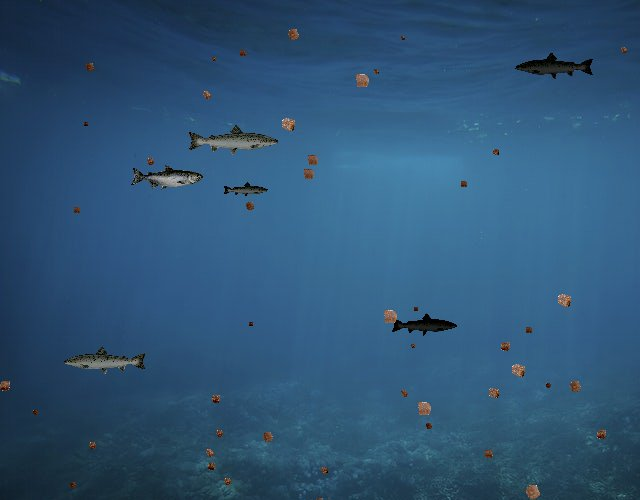Fish: (187, 124, 281, 157), (62, 345, 148, 376), (515, 51, 596, 81), (131, 164, 204, 190), (390, 312, 458, 337), (222, 182, 269, 199)
Pellet: (84, 438, 100, 454), (488, 145, 502, 159), (542, 379, 555, 392), (208, 54, 218, 64)
